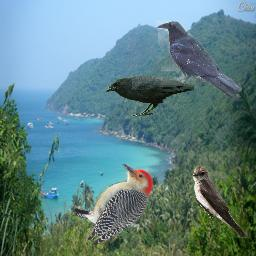Crow: (156, 20, 242, 101), (104, 75, 194, 117)
Swallow: (192, 165, 248, 238)
Woodpecker: (71, 164, 153, 246)
